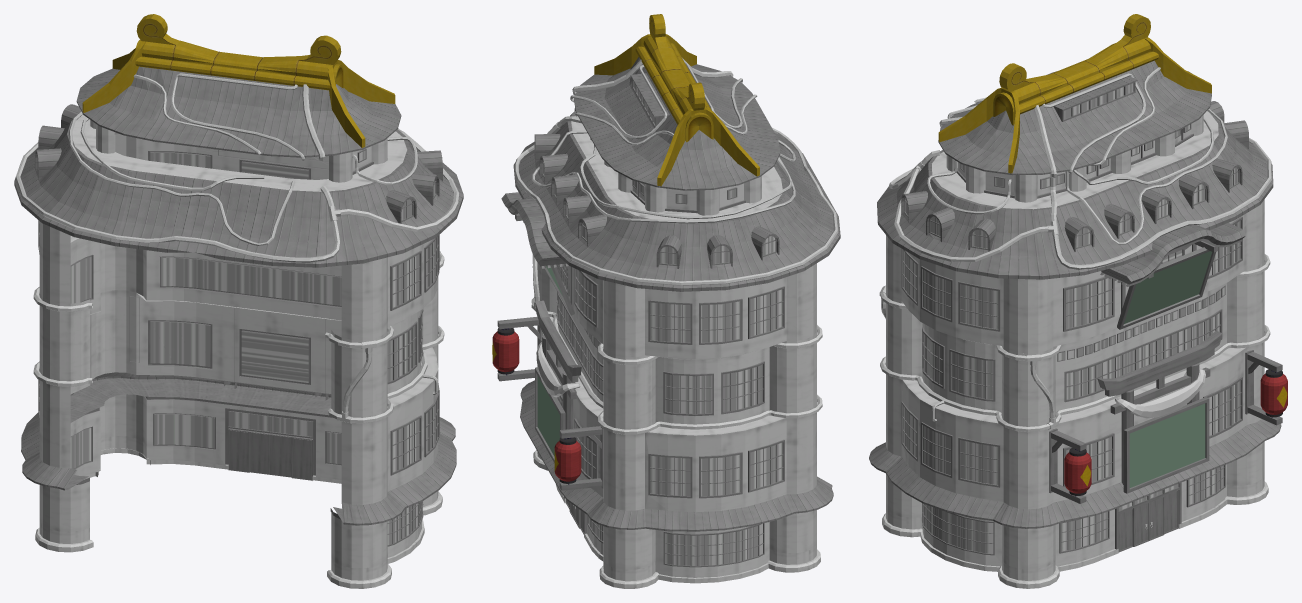
Rendered from REDUCTION_SM_ENV_KNVLLG_CommonBuilding_E_2.mo.fbx.
The picture shows the model from 3 angles, left to right: view 1: azimuth 30°, elevation 25°; view 2: azimuth 150°, elevation 25°; view 3: azimuth 270°, elevation 25°; orthographic projection. The views are drawn at different scales.
Visible parts, largest first — view 1: REDUCTION_SM_ENV_KNVLLG_CommonBuilding_E_2.mo; view 2: REDUCTION_SM_ENV_KNVLLG_CommonBuilding_E_2.mo; view 3: REDUCTION_SM_ENV_KNVLLG_CommonBuilding_E_2.mo.
Part boxes in pixels (<box>): REDUCTION_SM_ENV_KNVLLG_CommonBuilding_E_2.mo: <box>14,14,463,588</box>; REDUCTION_SM_ENV_KNVLLG_CommonBuilding_E_2.mo: <box>492,14,840,588</box>; REDUCTION_SM_ENV_KNVLLG_CommonBuilding_E_2.mo: <box>869,14,1287,588</box>.
Size of the model in its own units: 29.1 by 36 by 29.23.
